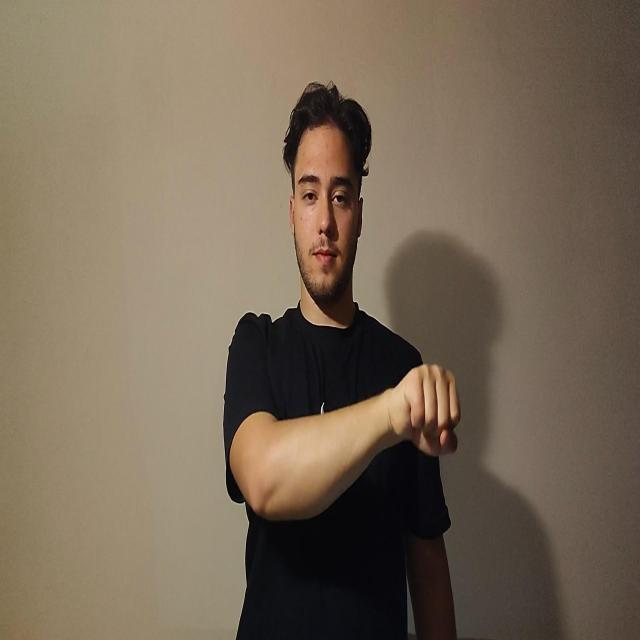yes: (388, 362, 461, 458)
